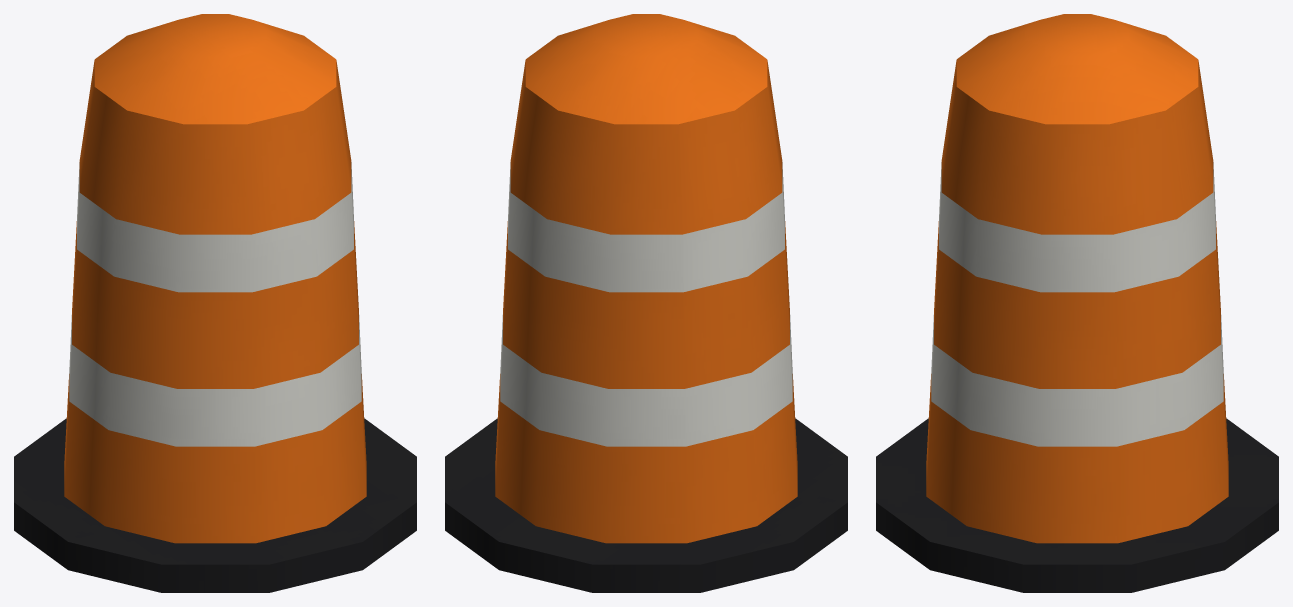
The model's file is tambor_listrado.glb.
3 renders of one model, left to right at view 1: azimuth 30°, elevation 25°; view 2: azimuth 150°, elevation 25°; view 3: azimuth 270°, elevation 25°, orthographic.
Parts seen in each view (by area): view 1: Inteiro; view 2: Inteiro; view 3: Inteiro.
Part boxes in pixels (<box>): Inteiro: <box>14,14,416,592</box>; Inteiro: <box>445,14,847,592</box>; Inteiro: <box>876,14,1278,592</box>.
Bounding box in the file's own units: 0.7727 × 1 × 0.7727.
Materials: 1 (1 with a texture image).
